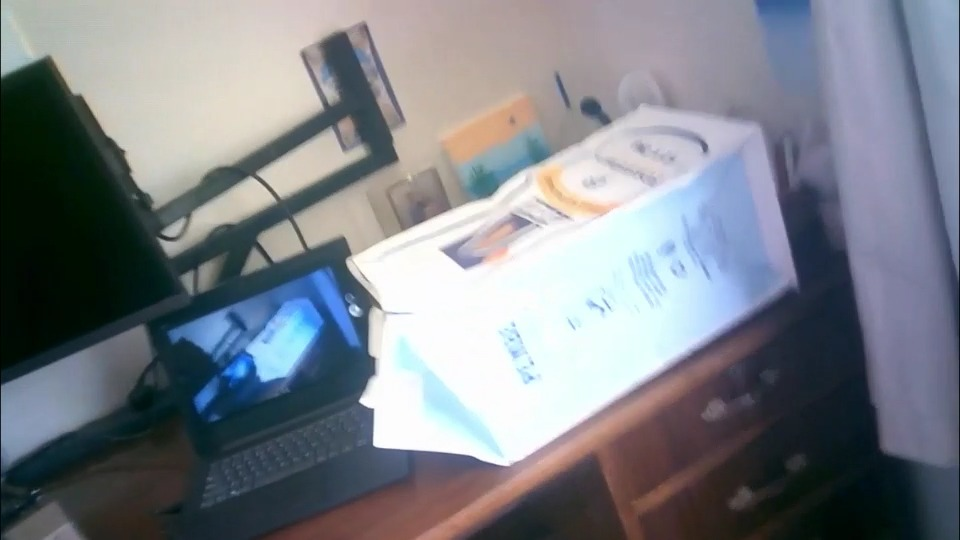wheat_flour_blue_label: (363, 104, 793, 454)
